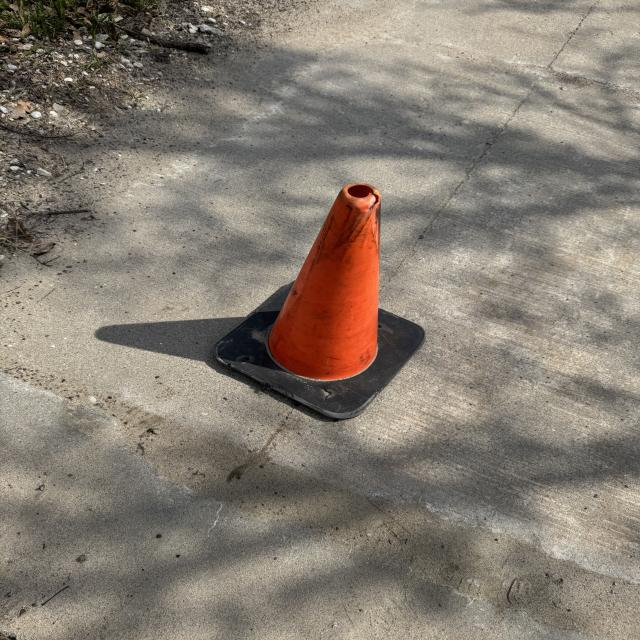Traffic Cone: (210, 182, 433, 422)
